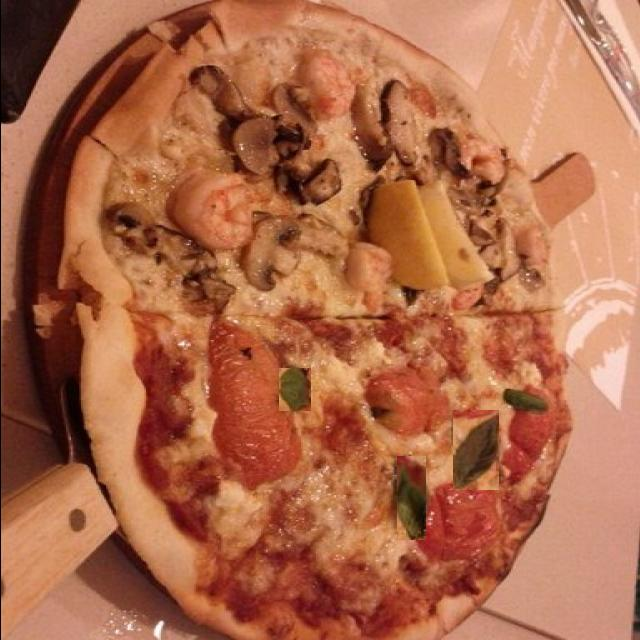basil: (452, 410, 498, 490), (394, 456, 424, 540), (278, 368, 310, 411), (504, 389, 553, 414)
pizza: (55, 0, 576, 640)
